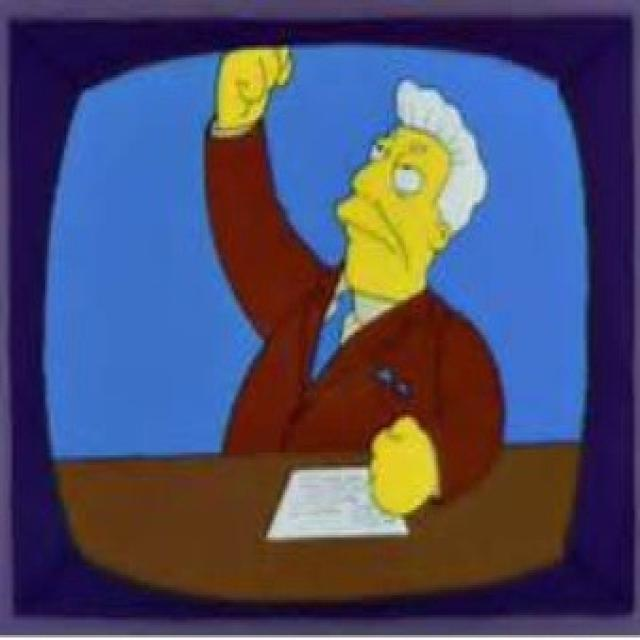Kent Brockman: (332, 78, 495, 318)
